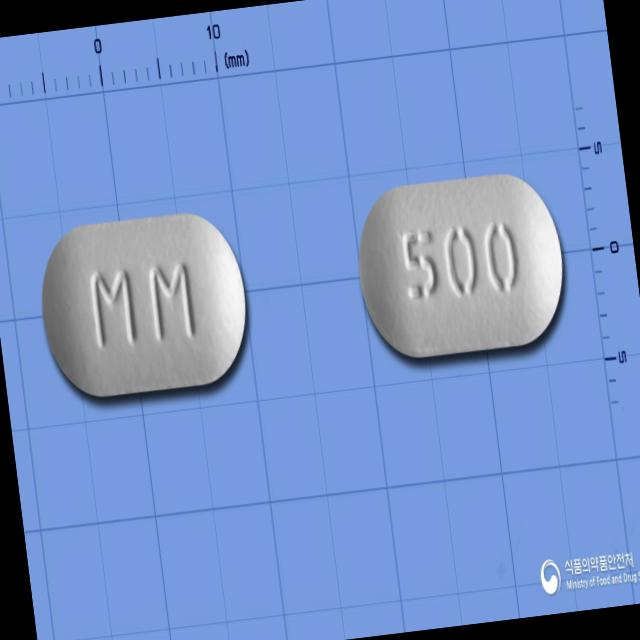Amoclan Duo: (29, 201, 258, 407), (350, 165, 574, 366)
